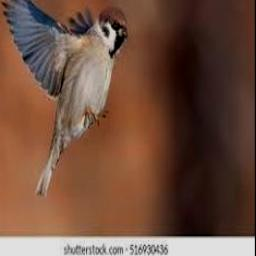Sparrow: (1, 0, 127, 194)
